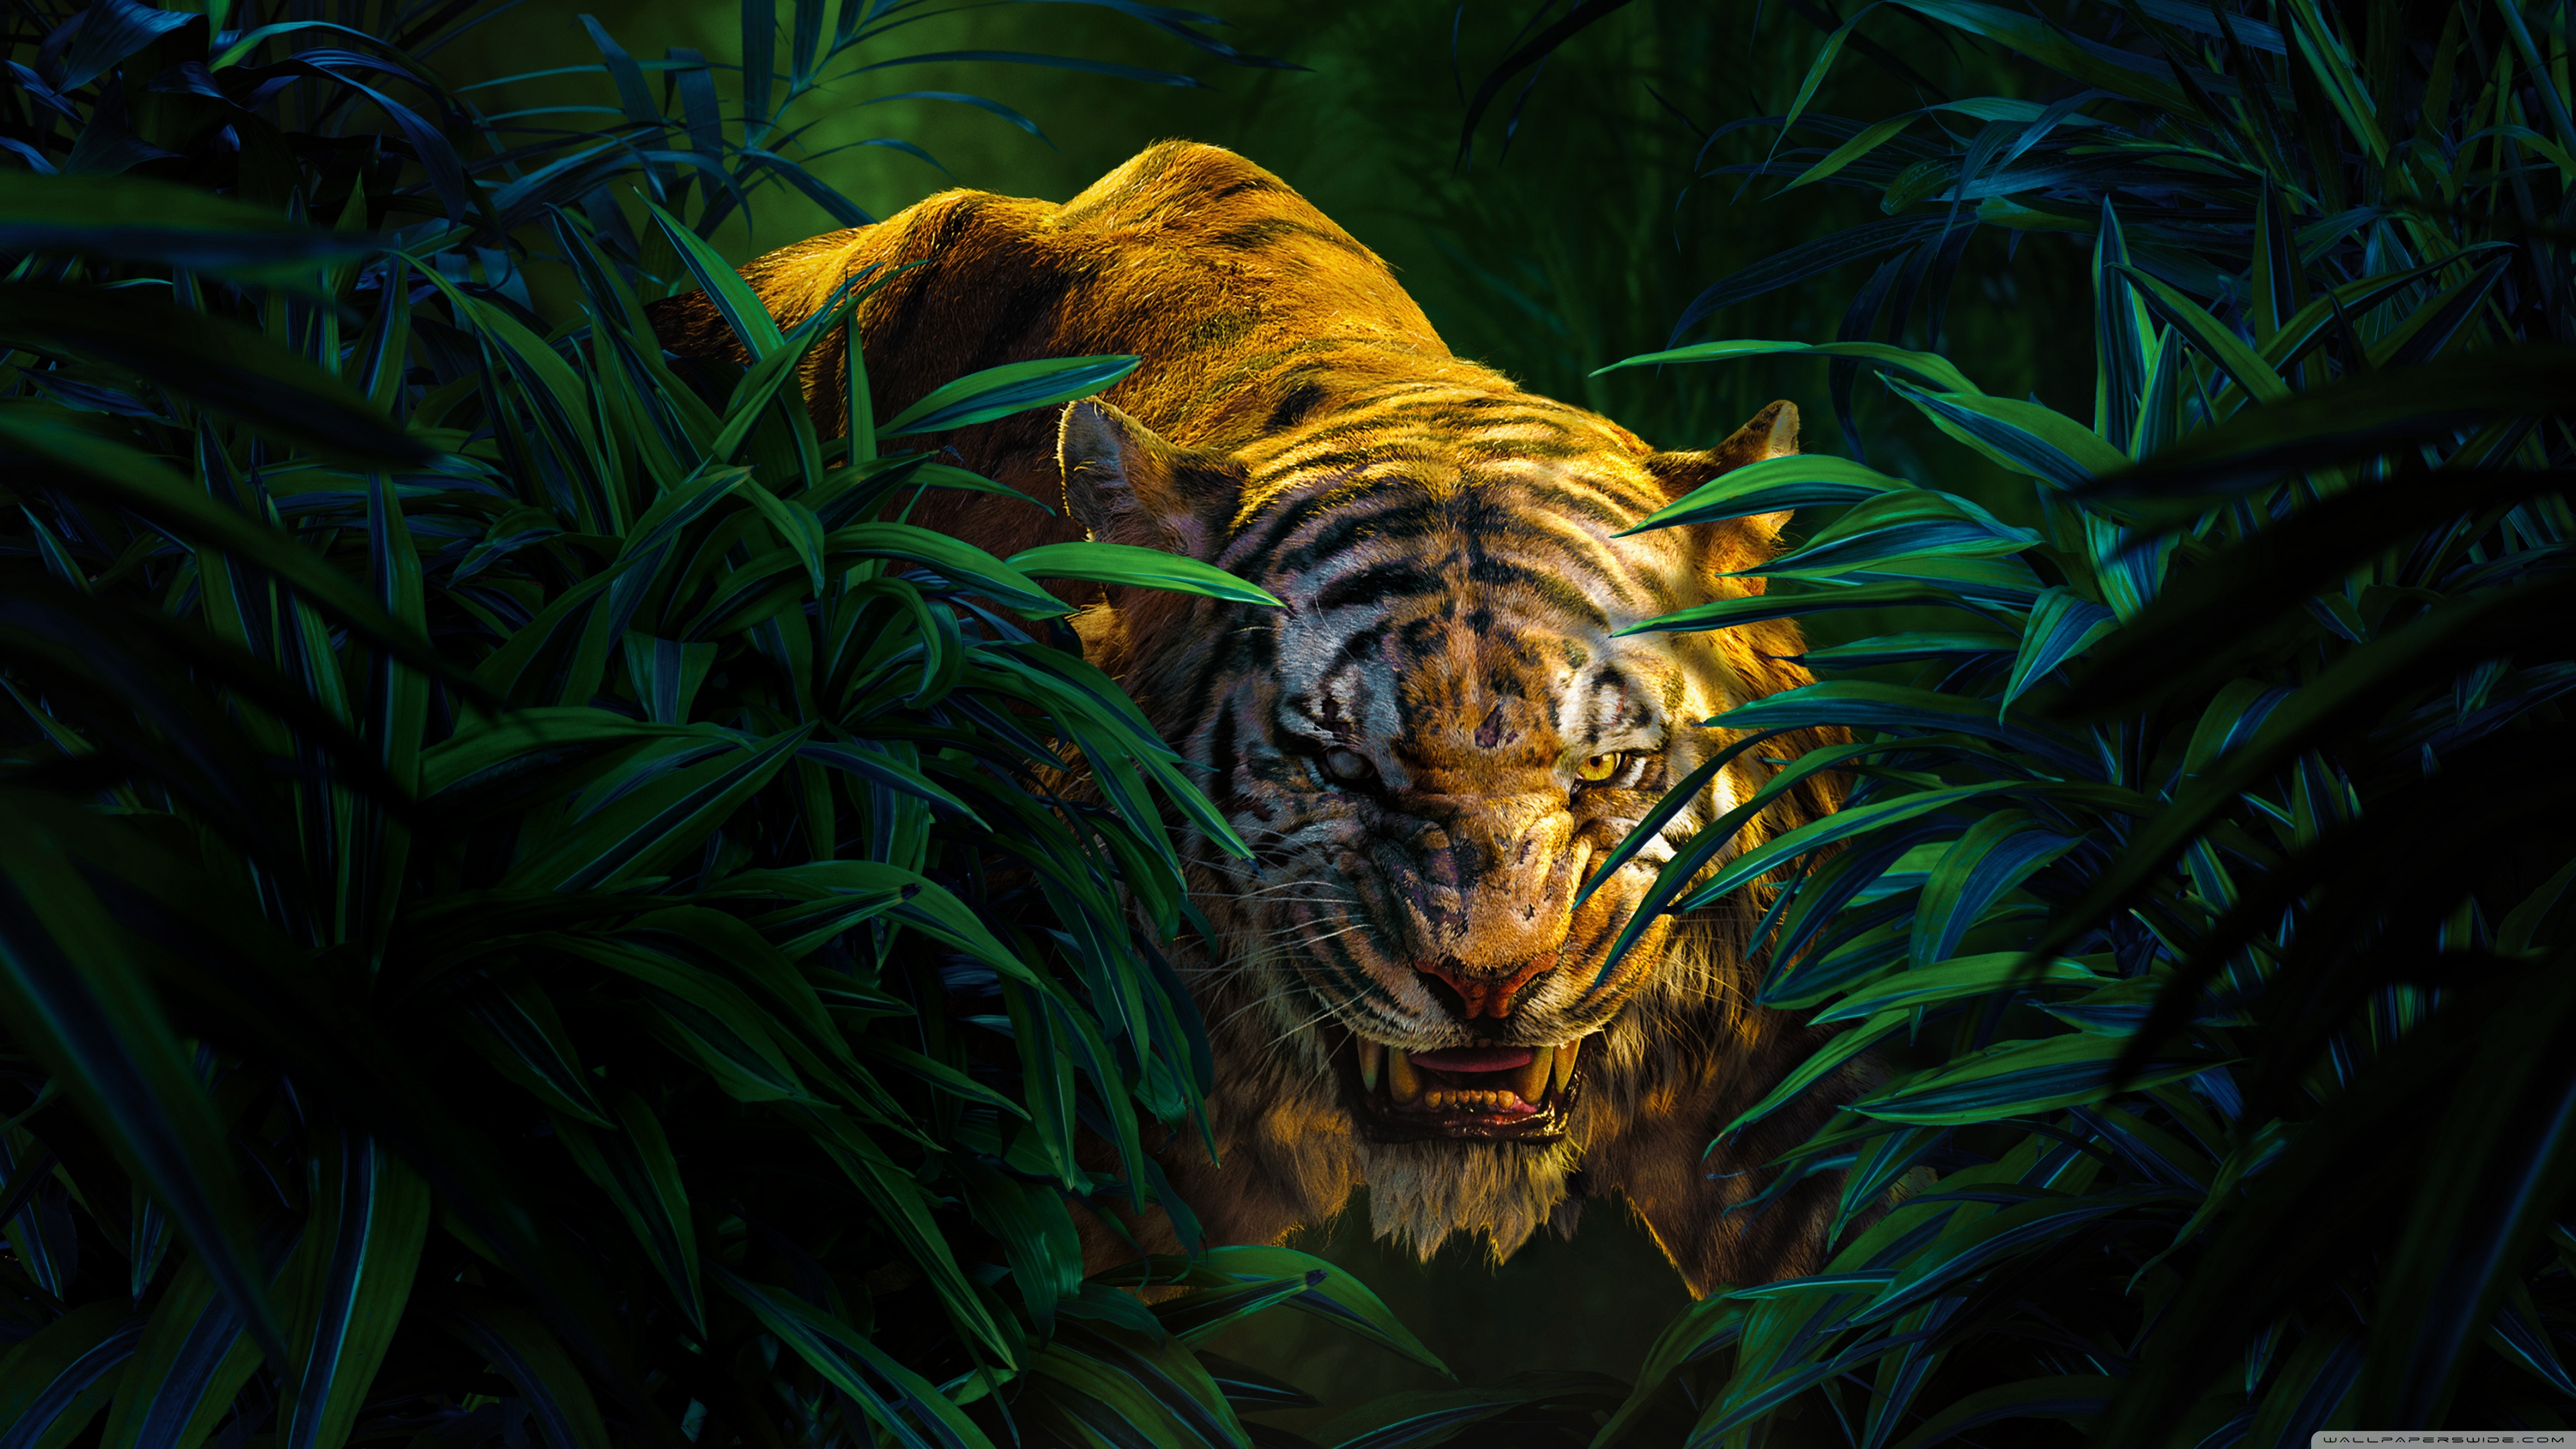tiger: (671, 62, 1948, 1279)
